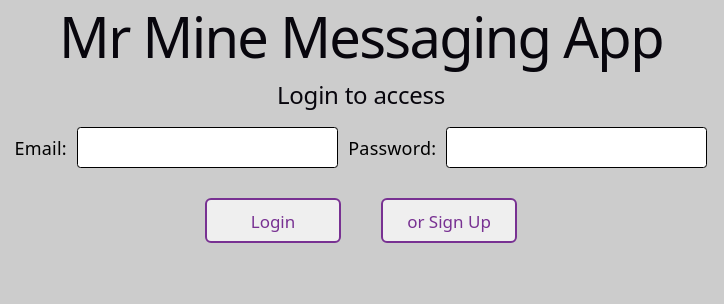
Test case: Login component › response is rendered after successful API request but not auth
Click the button "Login". click: (273, 220)
box: [205,198,341,243]
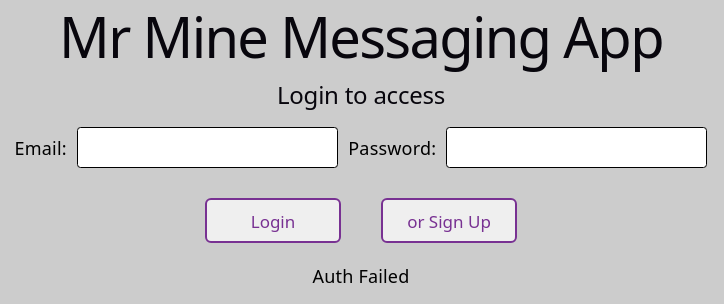
Now the text "Auth Failed" is shown, box [313,264,410,288]
